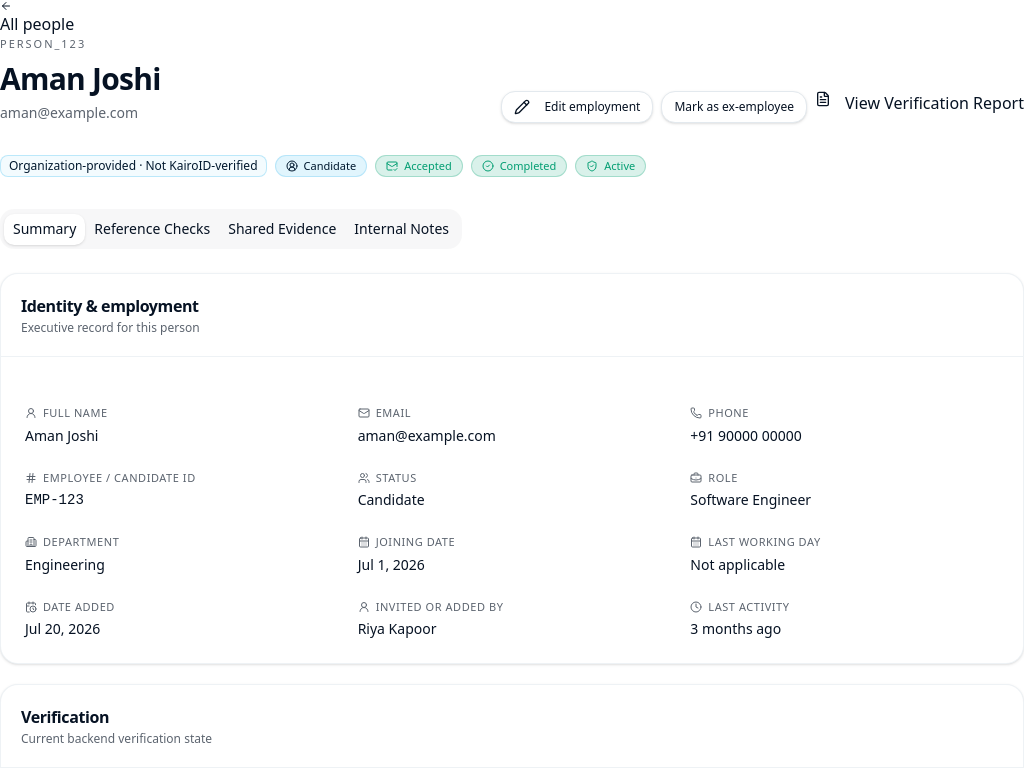
Scenario: Person detail page › renders backend lifecycle validation without losing retained-history guidance
Click the button "Mark as ex-employee".
click(734, 106)  # box top-left (661, 90), bottom-right (807, 122)
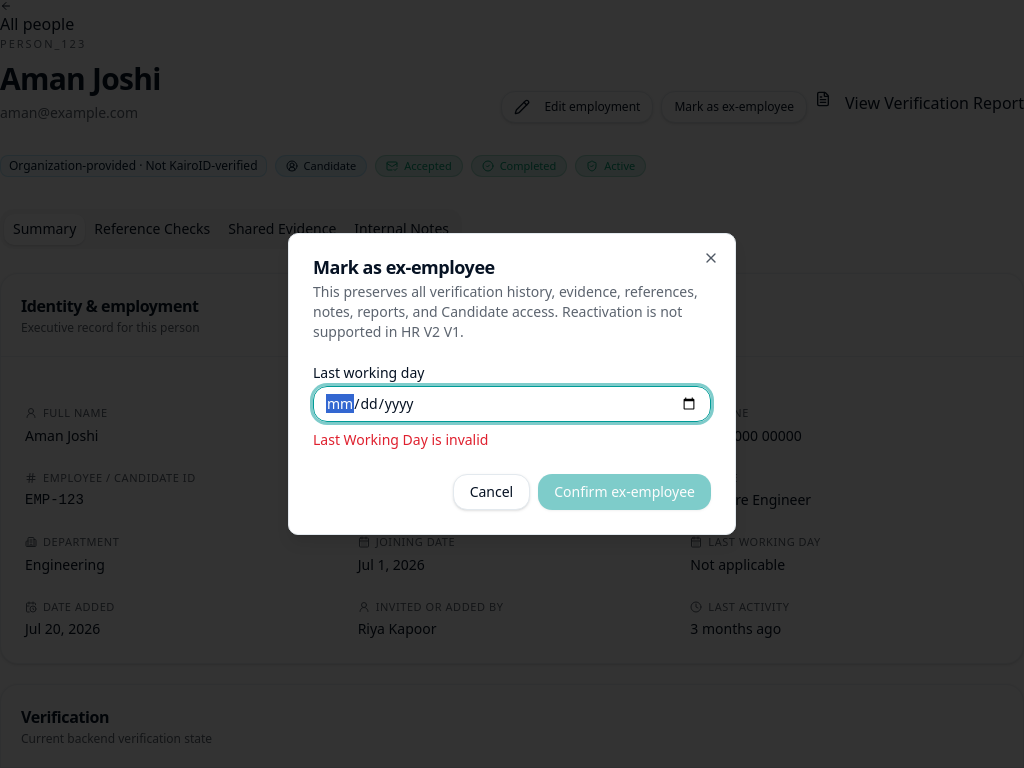
Now the message reads "Last Working Day is invalid", box top-left (313, 430), bottom-right (488, 449)
Now the text "preserves all verification history" is shown, box top-left (313, 282), bottom-right (698, 341)
